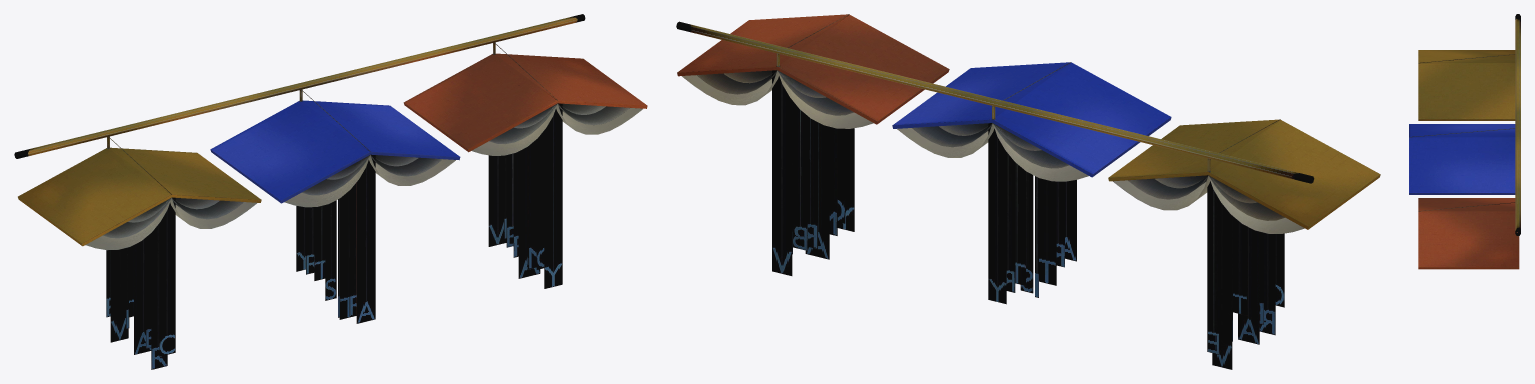
The model's file is Hanging Books.glb.
3 views of the same model, side by side, from view 1: azimuth 30°, elevation 25°; view 2: azimuth 150°, elevation 25°; view 3: azimuth 270°, elevation 25° (orthographic). The views are drawn at different scales.
Visible parts, largest first — view 1: Hanging Books_PROCESSED.002; view 2: Hanging Books_PROCESSED.002; view 3: Hanging Books_PROCESSED.002.
Boxes of the visible parts, bbox=[...] form: Hanging Books_PROCESSED.002: bbox=[14, 14, 647, 369]; Hanging Books_PROCESSED.002: bbox=[676, 14, 1380, 369]; Hanging Books_PROCESSED.002: bbox=[1409, 14, 1520, 269].
Size of the model in its own units: 15.31 by 5.51 by 3.31.
1 material, 1 textured.
